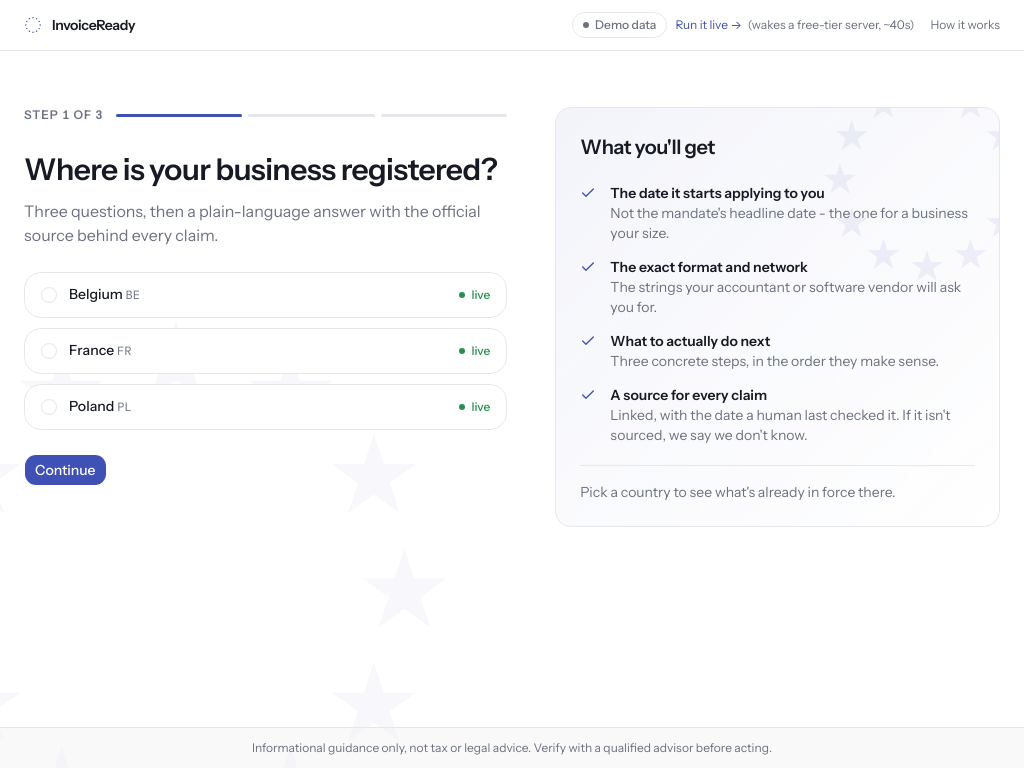
Scenario: intake flow › fills the side panel with real rules as soon as a country is picked
Expected: the heading "What you'll get" is shown, x1=580 y1=135 x2=715 y2=159
Click the radio button named "belgium" next to "Belgium": click(49, 295) x1=41 y1=287 x2=57 y2=303
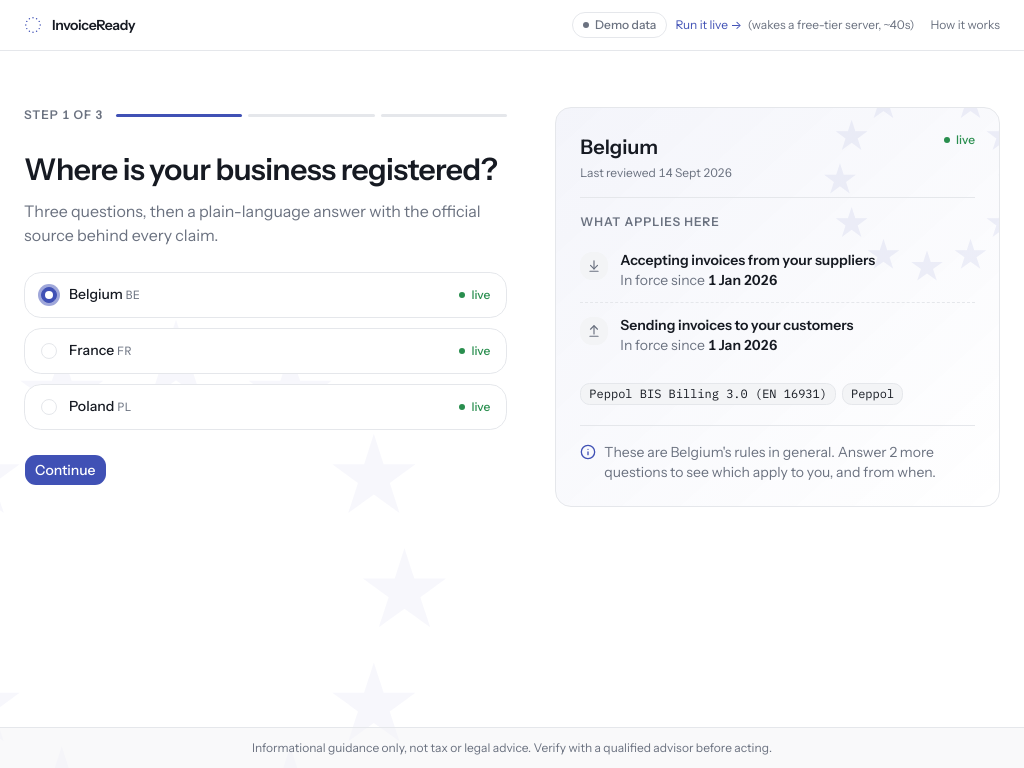
Expected: the text "Accepting invoices from your suppliers" is shown, x1=620 y1=251 x2=875 y2=269
